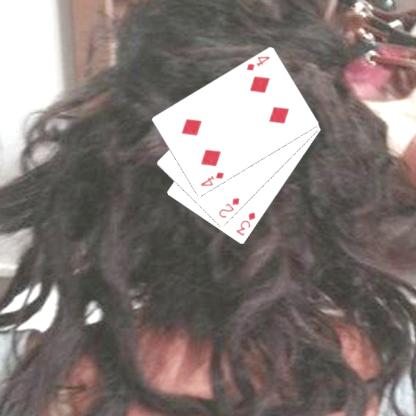2D: (216, 195, 241, 219)
3D: (233, 210, 257, 238)
4D: (198, 169, 226, 188), (243, 54, 271, 72)
